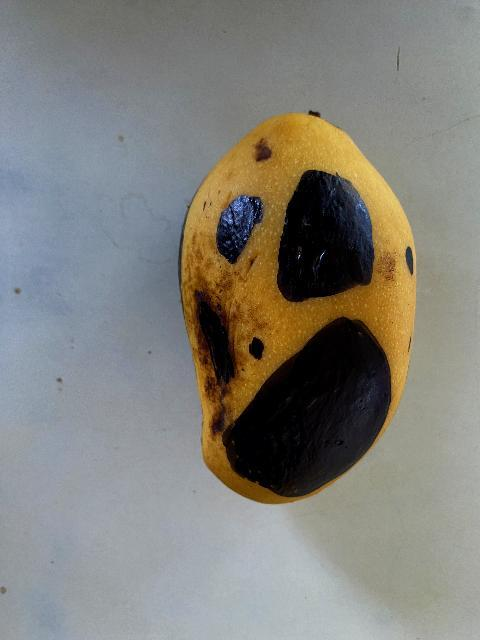Mango Overripe: (142, 87, 433, 537)
